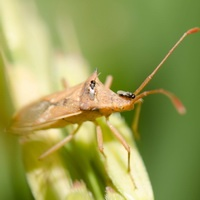insect: (8, 28, 199, 174)
